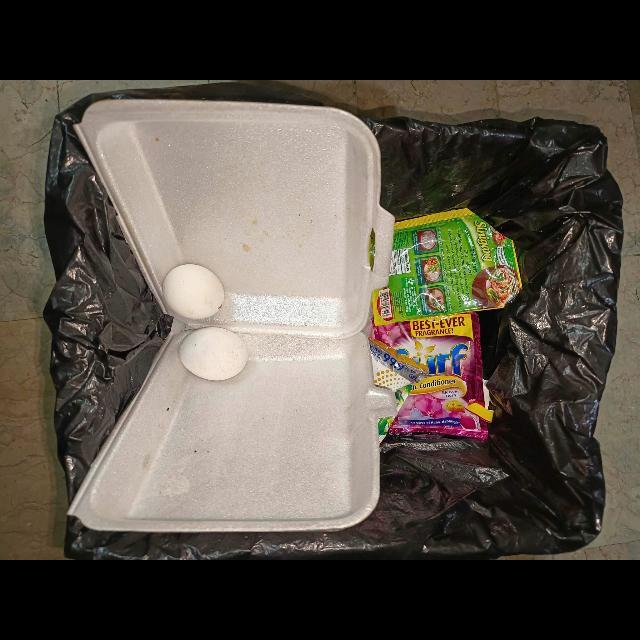plastic_sachet: (371, 208, 522, 326), (373, 312, 494, 440), (368, 337, 429, 412), (378, 416, 396, 445)
